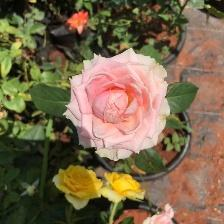rose: (66, 49, 175, 161), (54, 163, 106, 209), (100, 170, 148, 206)
